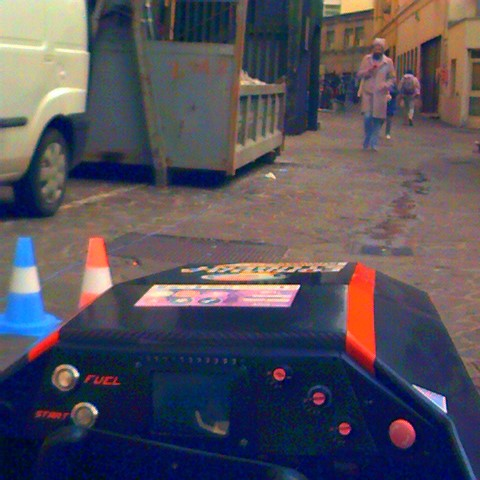cone: (1, 235, 59, 337)
